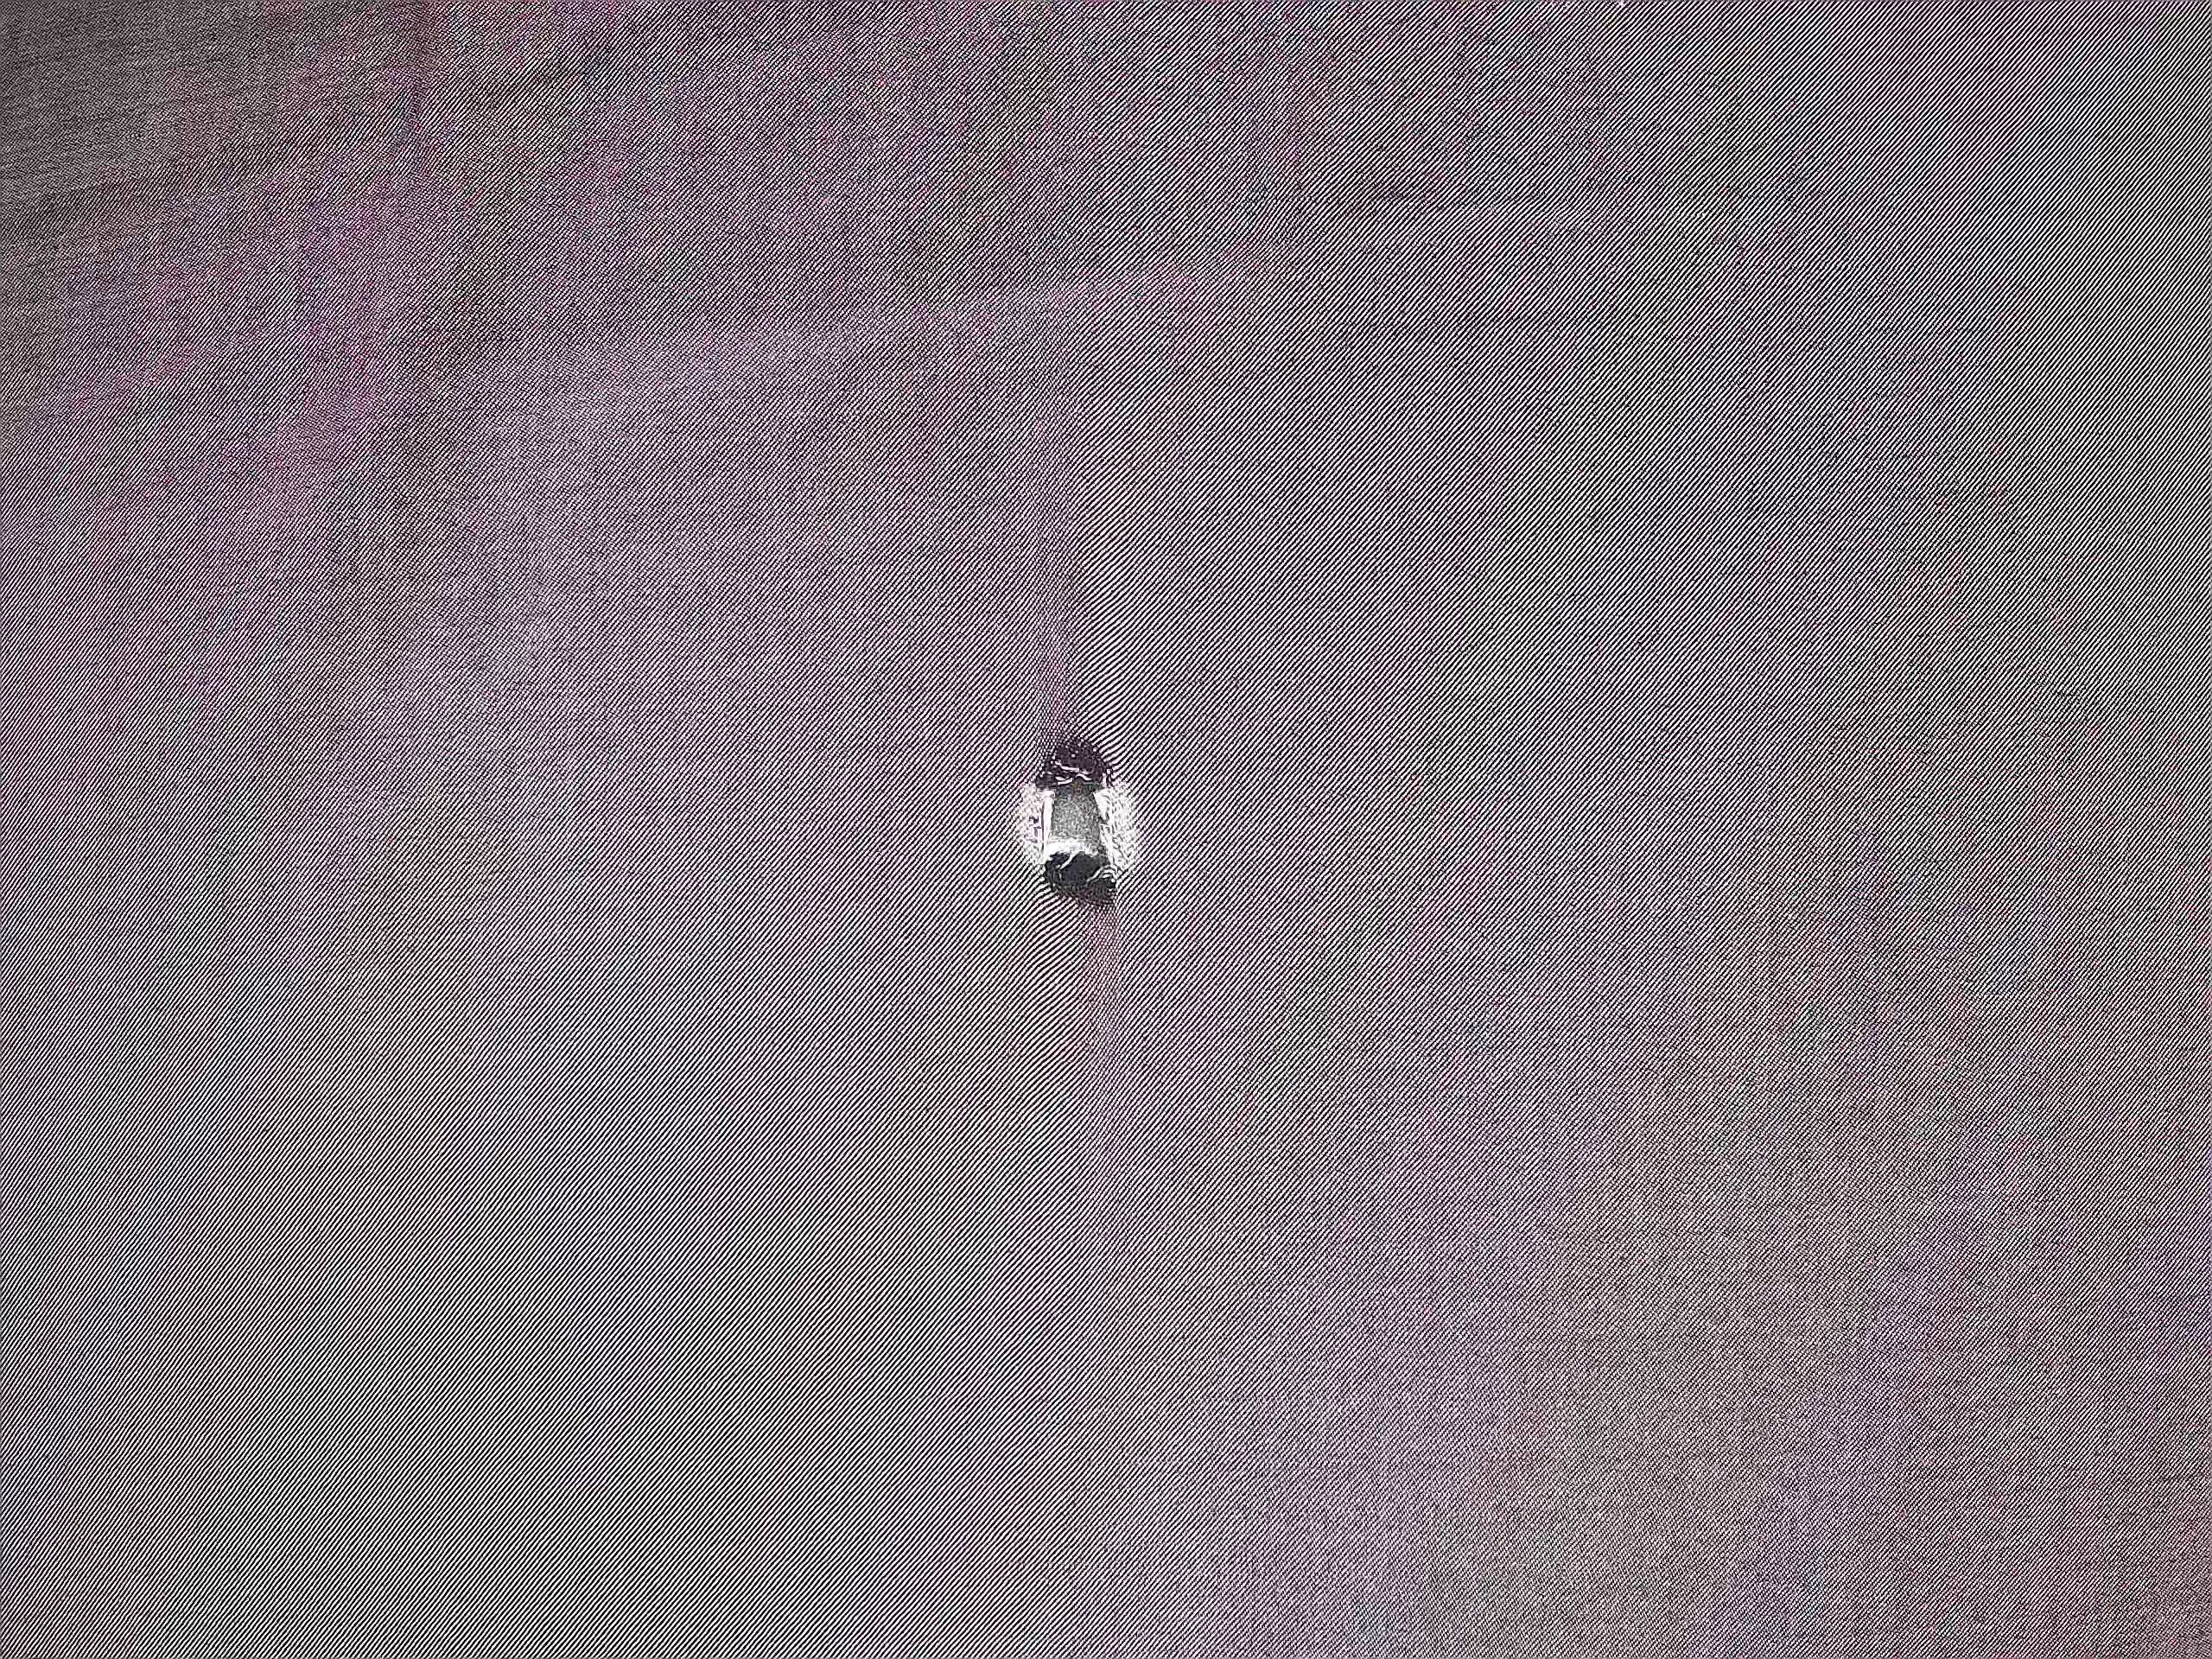rubbing-hole: (1003, 721, 1158, 934)
